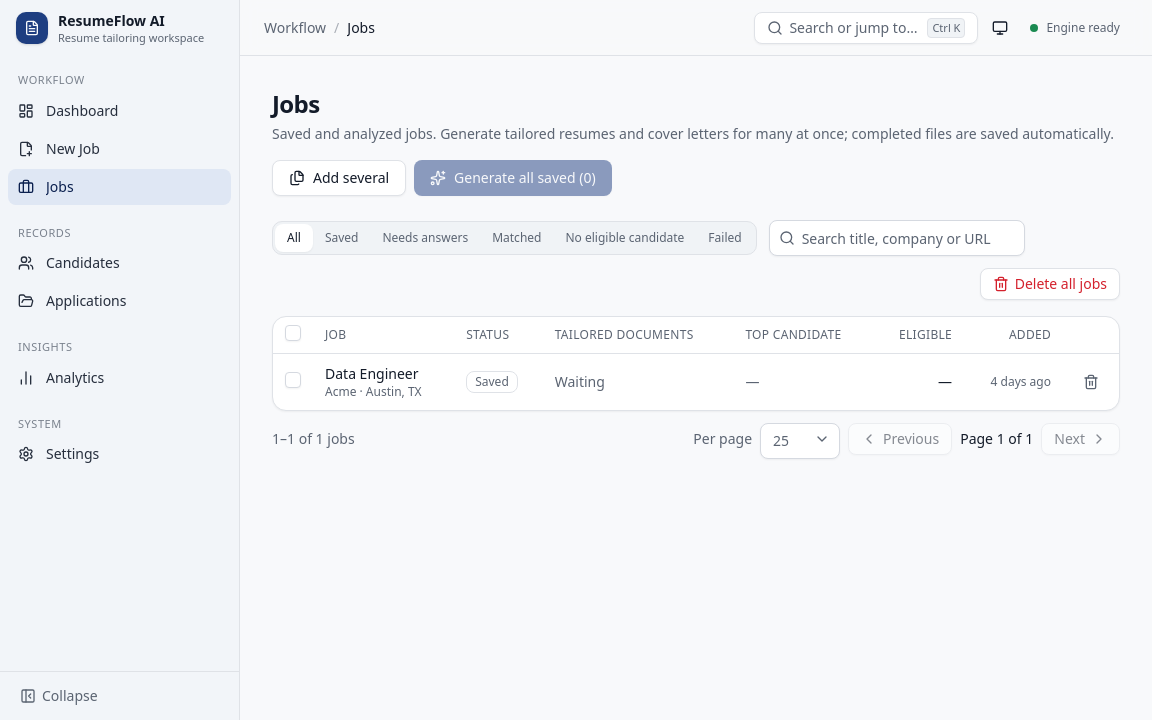
Test: deleting jobs from the workspace › deletes the job and refreshes the workspace
Click the button named "Delete Data Engineer".
click(1091, 382)  # box x1=1075 y1=366 x2=1107 y2=398
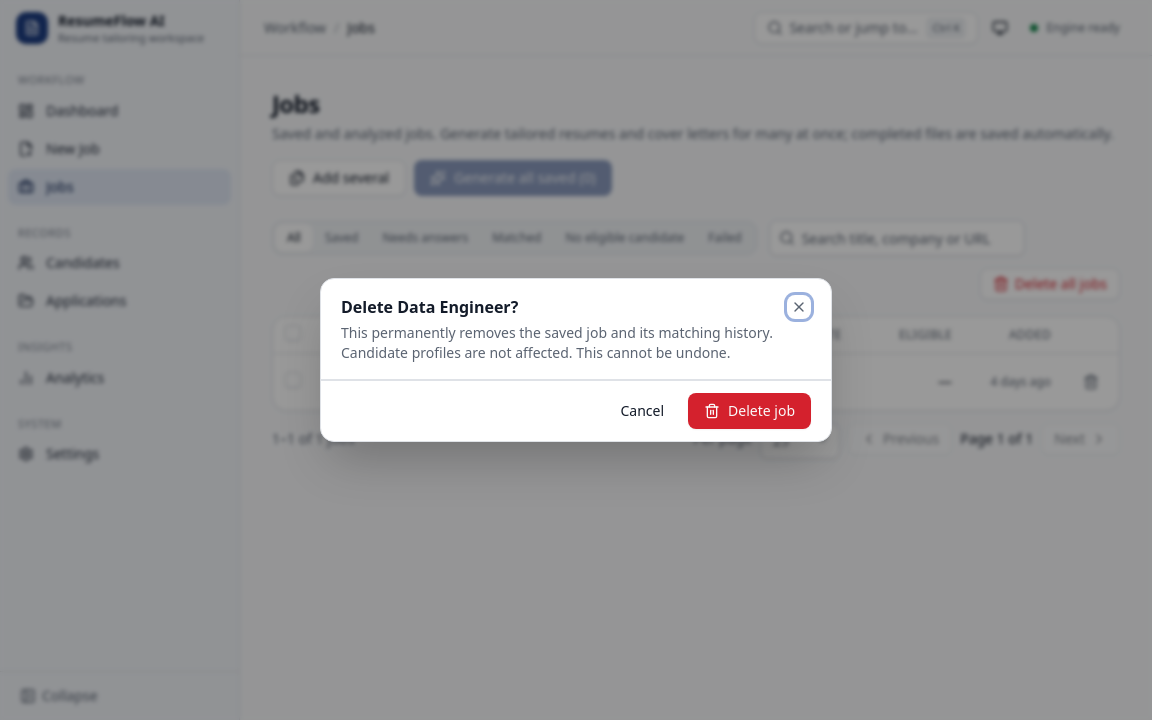
Click the button "Delete job".
click(750, 411)  # box x1=688 y1=393 x2=811 y2=429
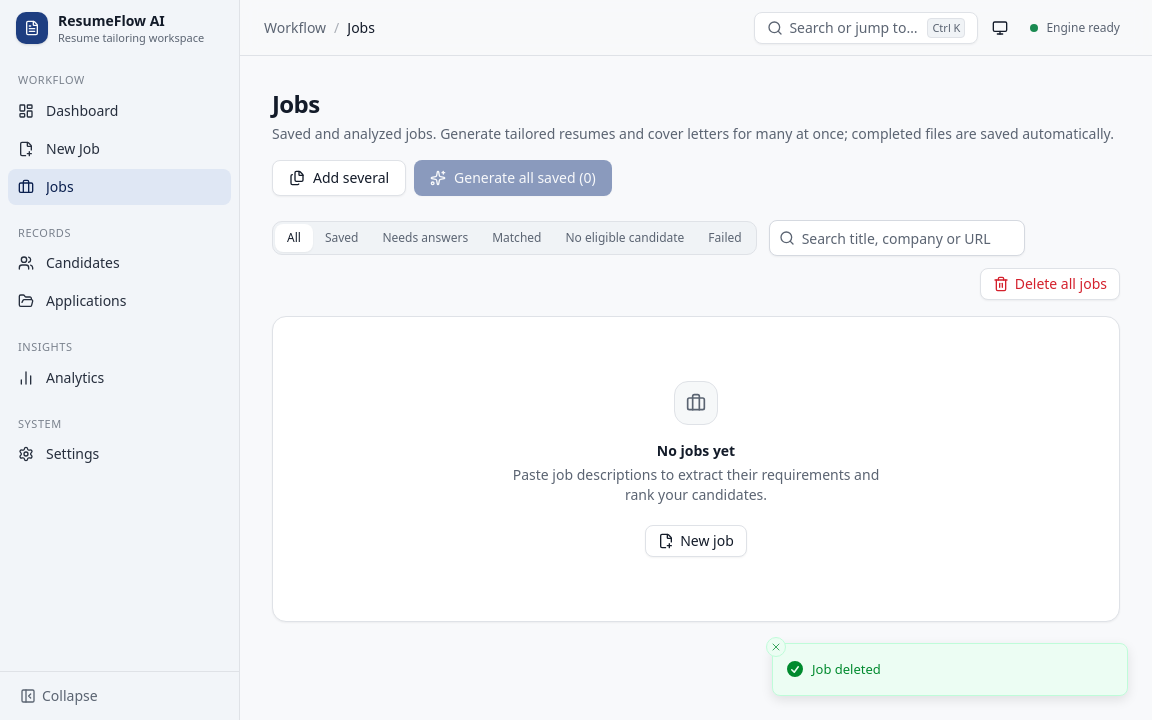
Now the heading "No jobs yet" is shown, box x1=657 y1=441 x2=735 y2=461
Now the text "Job deleted" is shown, box x1=812 y1=660 x2=881 y2=679
